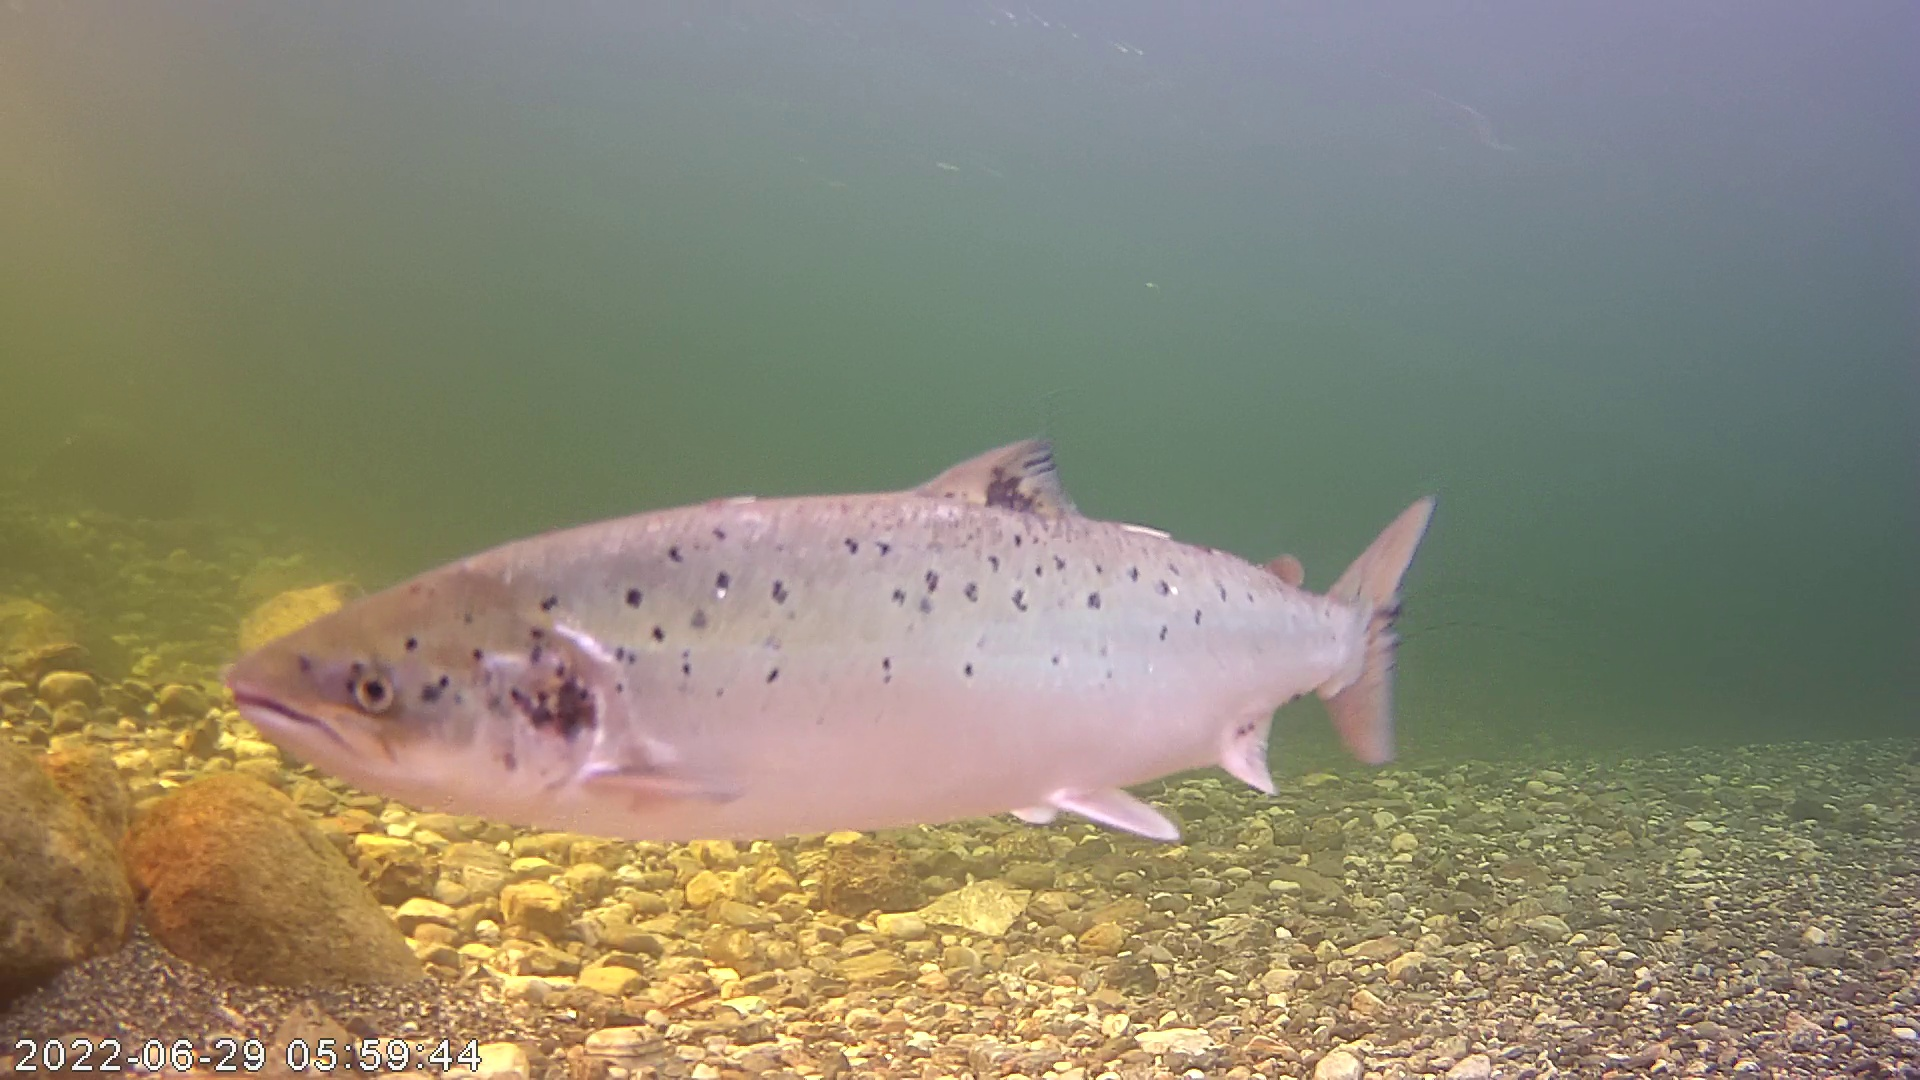salmon: (196, 320, 1433, 889)
